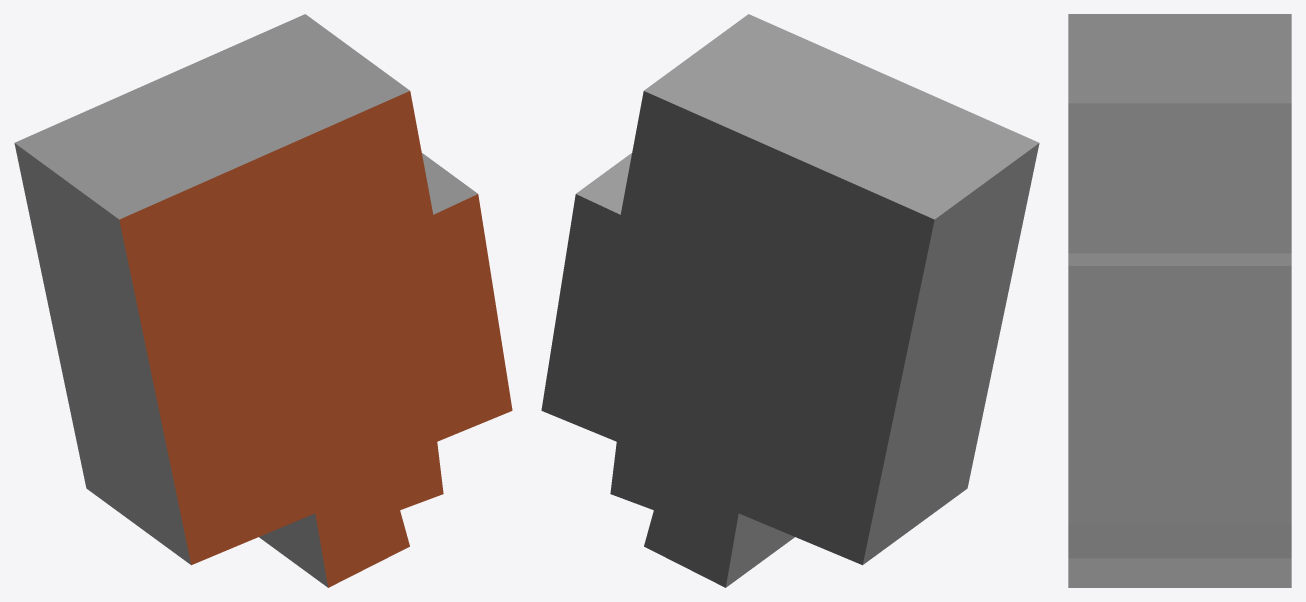
File: construction_4220_assumed_A_Casa_h6m.obj
The picture shows the model from 3 angles, left to right: view 1: azimuth 30°, elevation 25°; view 2: azimuth 150°, elevation 25°; view 3: azimuth 270°, elevation 25°; orthographic projection. The views are drawn at different scales.
Parts seen in each view (by area): view 1: construction_4220_assumed_A_Casa; view 2: construction_4220_assumed_A_Casa; view 3: construction_4220_assumed_A_Casa.
Boxes of the visible parts, bbox=[...] form: construction_4220_assumed_A_Casa: bbox=[14, 14, 512, 587]; construction_4220_assumed_A_Casa: bbox=[541, 14, 1039, 587]; construction_4220_assumed_A_Casa: bbox=[1068, 14, 1291, 587].
Size of the model in its own units: 12.98 by 15.06 by 6.
